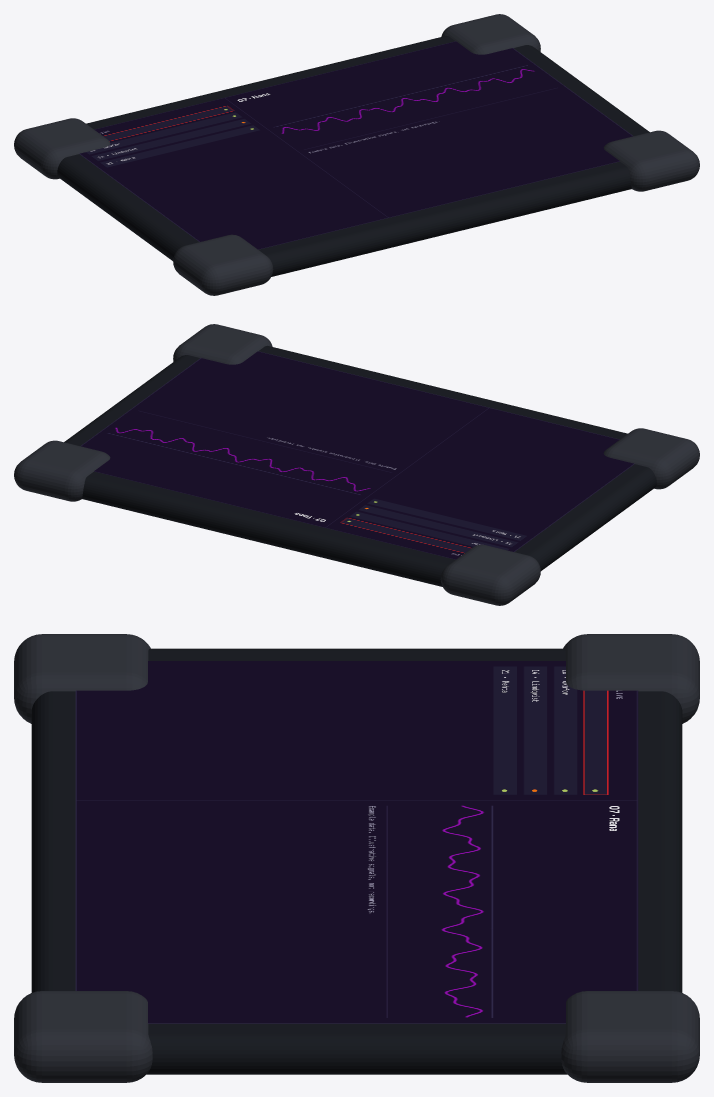
Rendered from cx_tablet.glb.
The picture shows the model from 3 angles, top to bottom: view 1: azimuth 30°, elevation 25°; view 2: azimuth 150°, elevation 25°; view 3: azimuth 270°, elevation 25°; orthographic projection. The views are drawn at different scales.
Parts seen in each view (by area): view 1: tablet_screen, tablet_body, tablet_bumper, tablet_bumper.002, tablet_bumper.001, tablet_bumper.003; view 2: tablet_screen, tablet_body, tablet_bumper.001, tablet_bumper.003, tablet_bumper, tablet_bumper.002; view 3: tablet_screen, tablet_body, tablet_bumper.002, tablet_bumper.003, tablet_bumper, tablet_bumper.001.
Boxes of the visible parts, <box> form: tablet_screen: <box>79,41,632,249</box>; tablet_body: <box>57,35,649,276</box>; tablet_bumper: <box>173,234,273,295</box>; tablet_bumper.002: <box>603,130,699,191</box>; tablet_bumper.001: <box>14,118,110,179</box>; tablet_bumper.003: <box>441,14,540,54</box>; tablet_screen: <box>81,351,634,559</box>; tablet_body: <box>64,345,656,586</box>; tablet_bumper.001: <box>440,544,540,605</box>; tablet_bumper.003: <box>14,440,110,501</box>; tablet_bumper: <box>603,428,699,489</box>; tablet_bumper.002: <box>173,324,272,364</box>; tablet_screen: <box>75,661,638,1023</box>; tablet_body: <box>31,648,682,1074</box>; tablet_bumper.002: <box>14,991,152,1082</box>; tablet_bumper.003: <box>561,991,699,1082</box>; tablet_bumper: <box>14,634,150,723</box>; tablet_bumper.001: <box>563,634,699,723</box>.
Bounding box in the file's own units: 0.28 × 0.016 × 0.195.
Materials: 3 (1 with a texture image).
